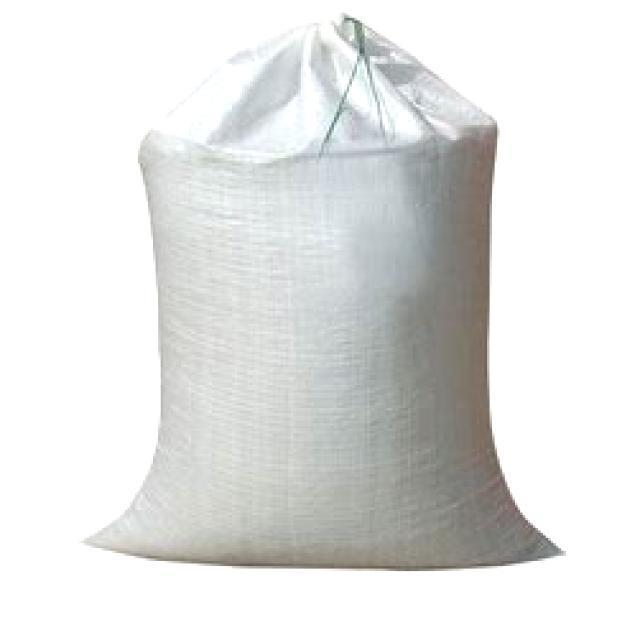gunny_bag: (81, 8, 568, 572)
